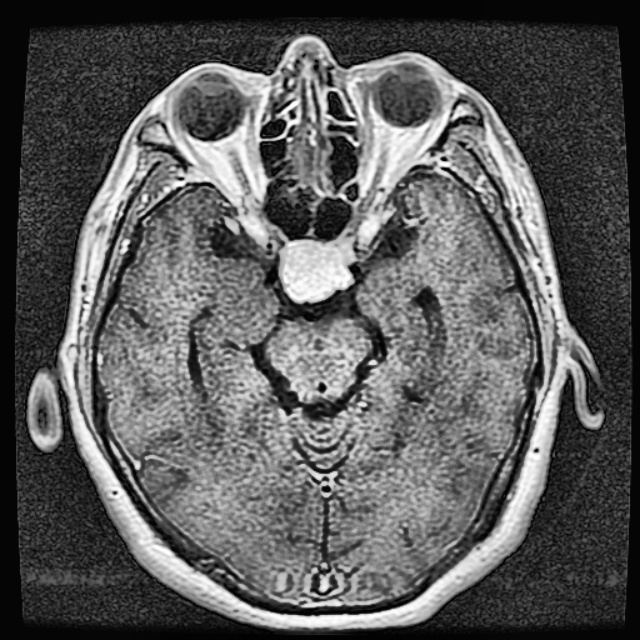Glioma: (279, 238, 357, 302)
